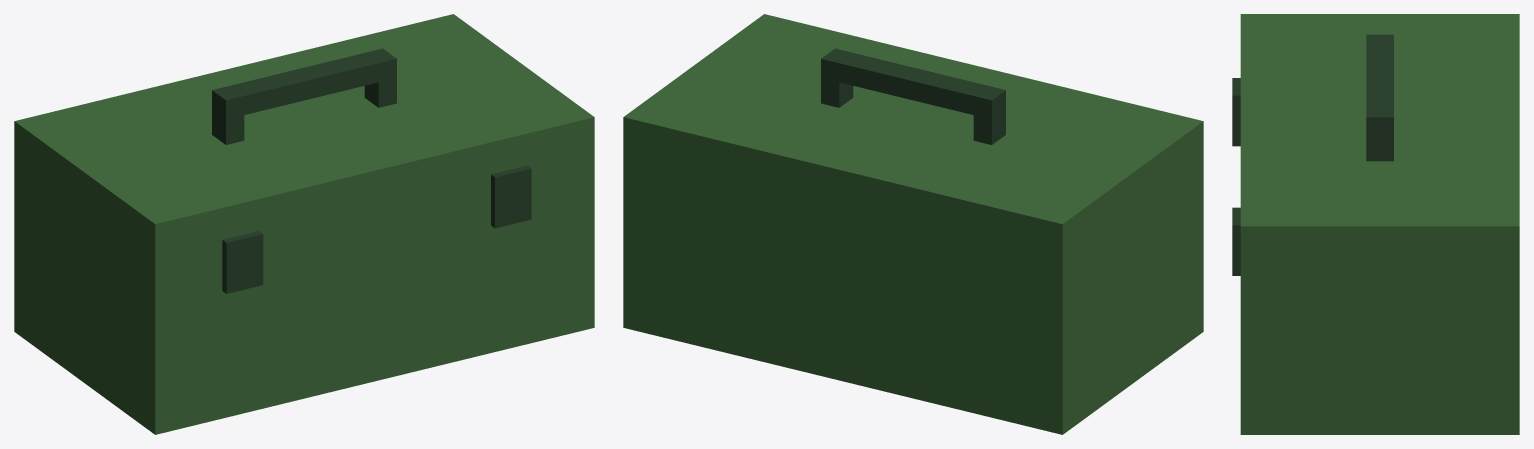
File: tackle_box.glb
3 renders of one model, left to right at view 1: azimuth 30°, elevation 25°; view 2: azimuth 150°, elevation 25°; view 3: azimuth 270°, elevation 25°, orthographic.
Parts seen in each view (by area): view 1: TackleBox, Lid; view 2: TackleBox, Lid; view 3: Lid, TackleBox.
Boxes of the visible parts, box(x1,y1,x2,y2) form: TackleBox: box(14, 162, 594, 434); Lid: box(14, 14, 594, 268); TackleBox: box(623, 162, 1203, 434); Lid: box(623, 14, 1203, 268); Lid: box(1240, 14, 1519, 270); TackleBox: box(1232, 78, 1519, 434).
Bounding box in the file's own units: 0.36 × 0.2 × 0.206.
